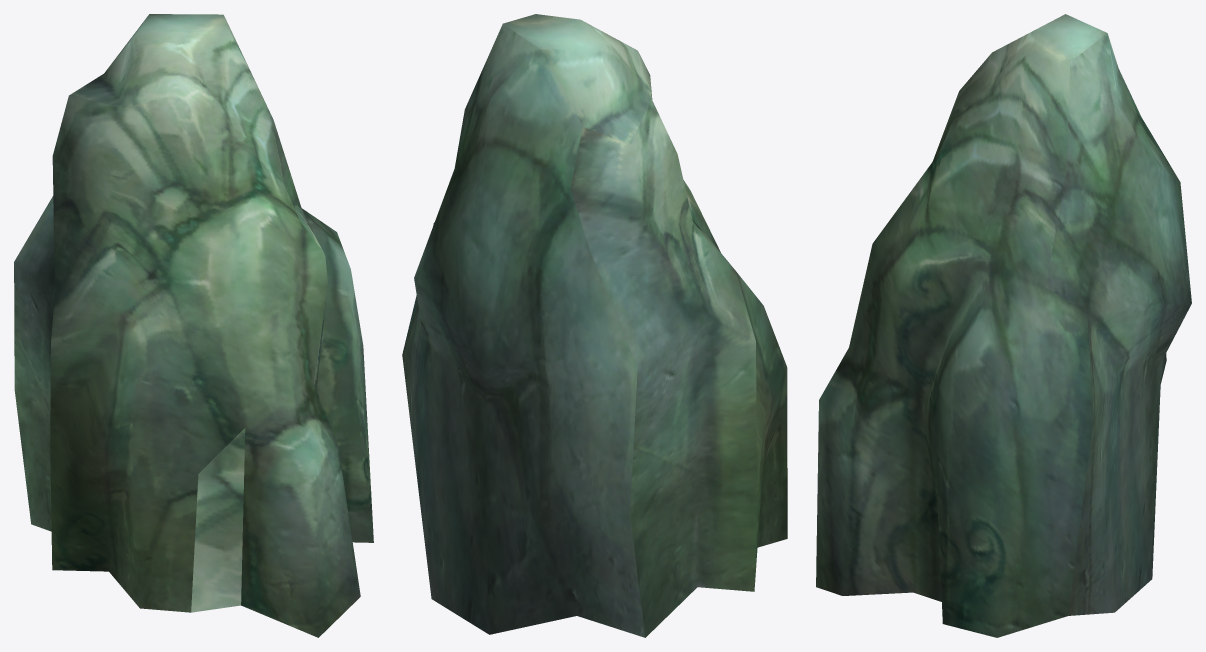
The model's file is cj_xinshou_shitou01_53_38_4137out.fbx.
3 renders of one model, left to right at view 1: azimuth 30°, elevation 25°; view 2: azimuth 150°, elevation 25°; view 3: azimuth 270°, elevation 25°, orthographic. The views are drawn at different scales.
Parts seen in each view (by area): view 1: cj_xinshou_shitou01; view 2: cj_xinshou_shitou01; view 3: cj_xinshou_shitou01.
Boxes of the visible parts, x1,y1,x2,y2 form: cj_xinshou_shitou01: (14, 14, 373, 637); cj_xinshou_shitou01: (402, 14, 787, 637); cj_xinshou_shitou01: (816, 14, 1191, 637).
Size of the model in its own units: 3.19 by 5.24 by 3.27.
